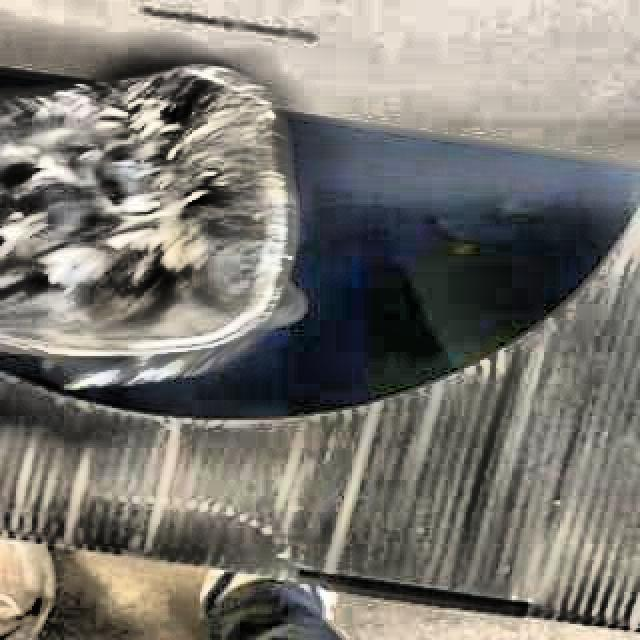metal: (0, 66, 304, 389)
